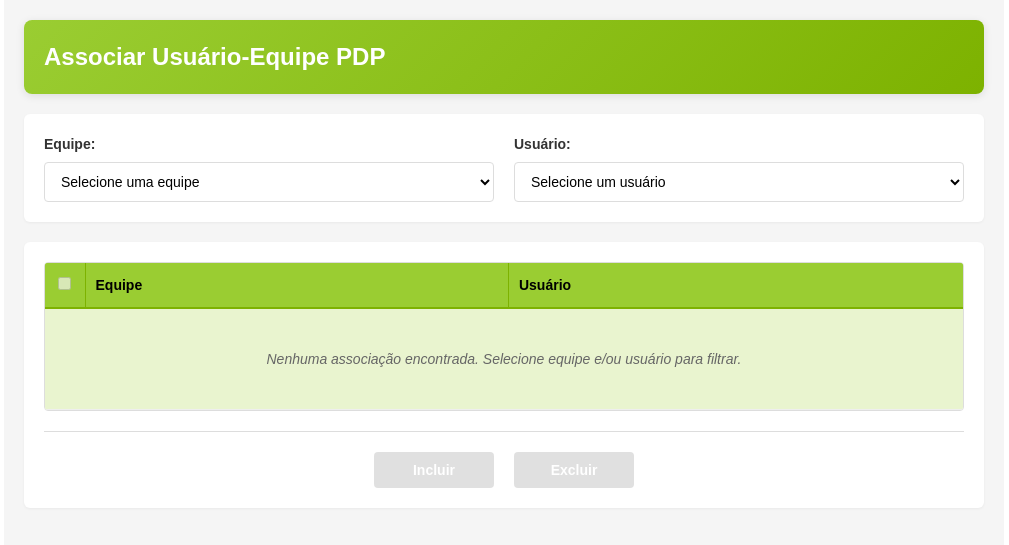
Test case: UserTeamAssociation Component › Seleção de Itens › deve habilitar botão Excluir ao selecionar item
Select "EQUIPE ALPHA" in the dropdown with test id "equipe-select": coordinates (269, 182) [44,162,494,202]
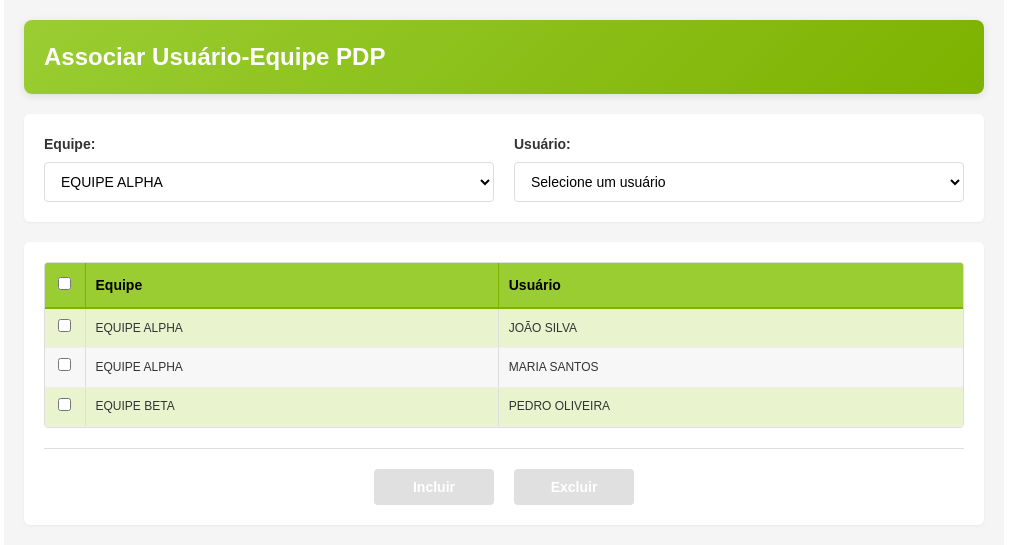
Check: the checkbox with test id "checkbox-1" is shown
Click the checkbox with test id "checkbox-1": coordinates (65, 326) [58,319,71,332]
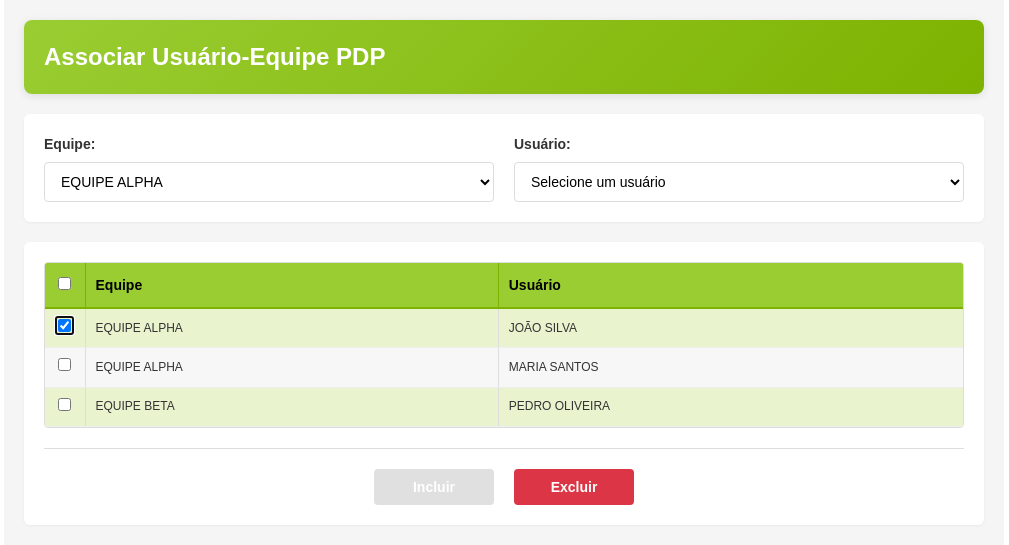
Check: the button with test id "excluir-btn" is enabled, box [514,469,634,505]
